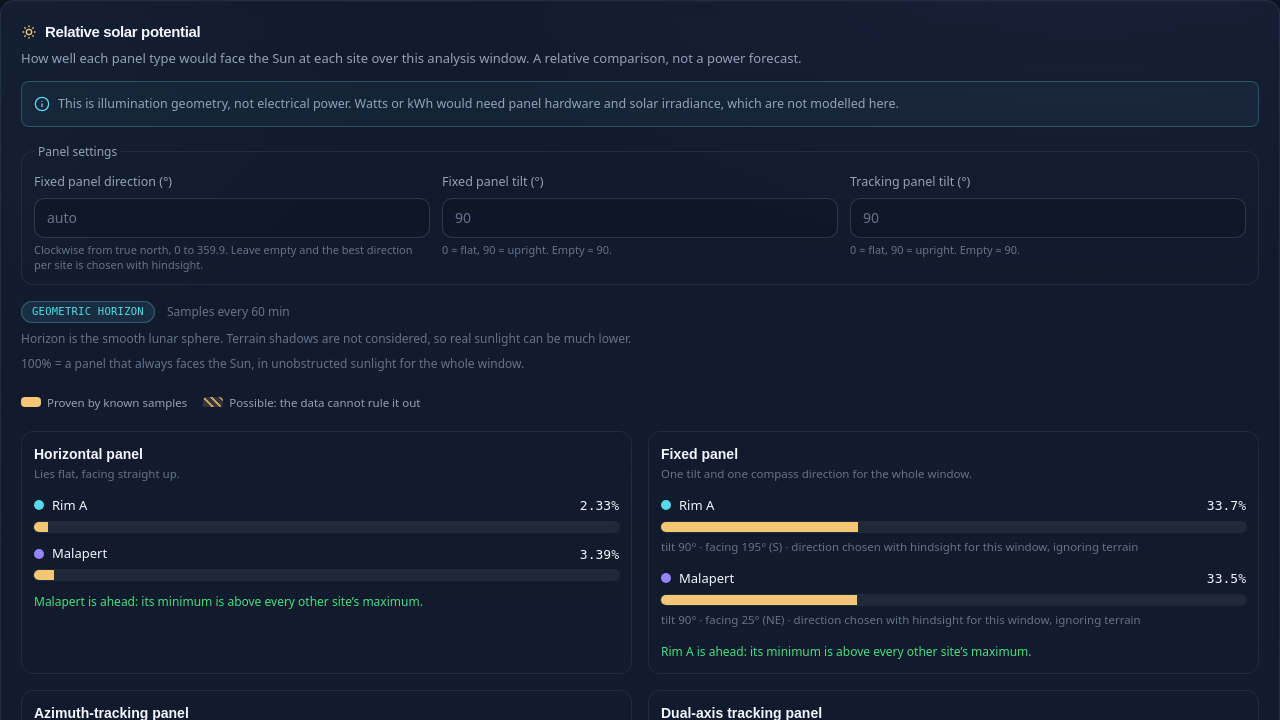
Test: solar potential · panel › debounces panel settings and never requests an invalid configuration
This screenshot has width=1280, height=720.
Expected: the element with test id "solar-not-power" shows "not electrical power", [58,95,899,112]
In the field labelled "Fixed panel direction (°)": (232, 218) [34,198,430,238], type "1"
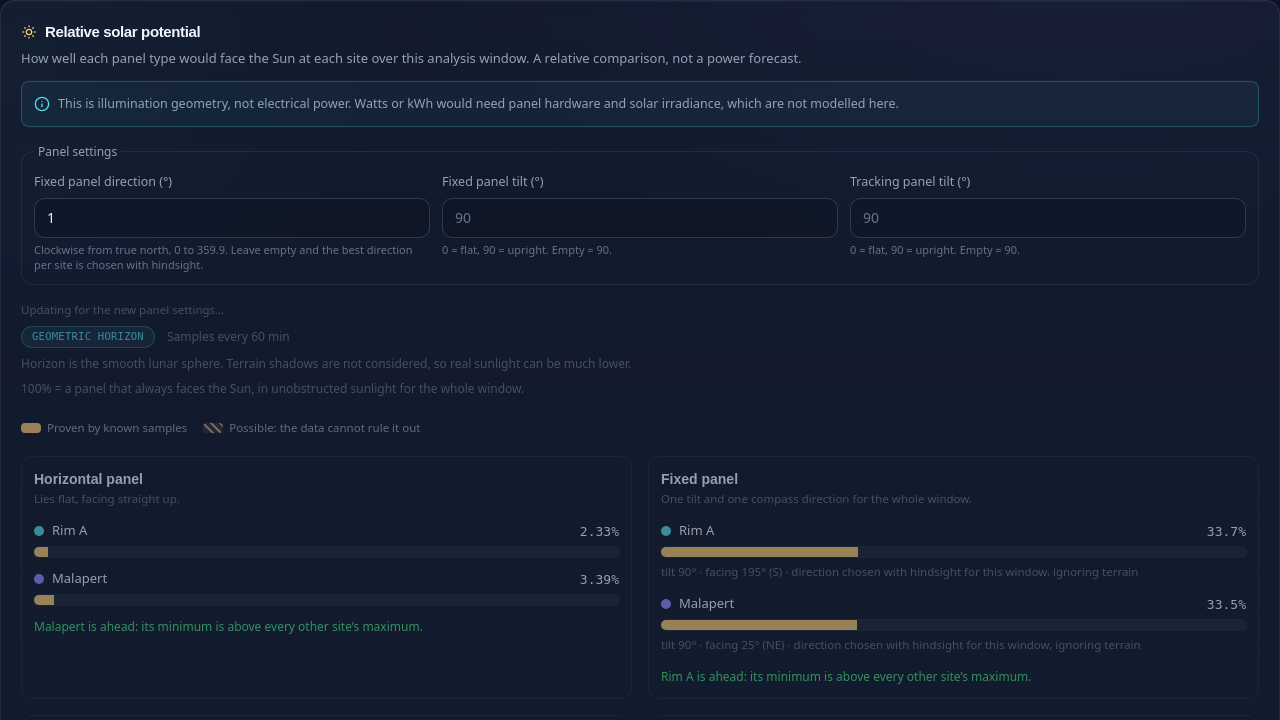
Replace the text in the field labelled "Fixed panel direction (°)" with "19": (232, 218) [34,198,430,238]
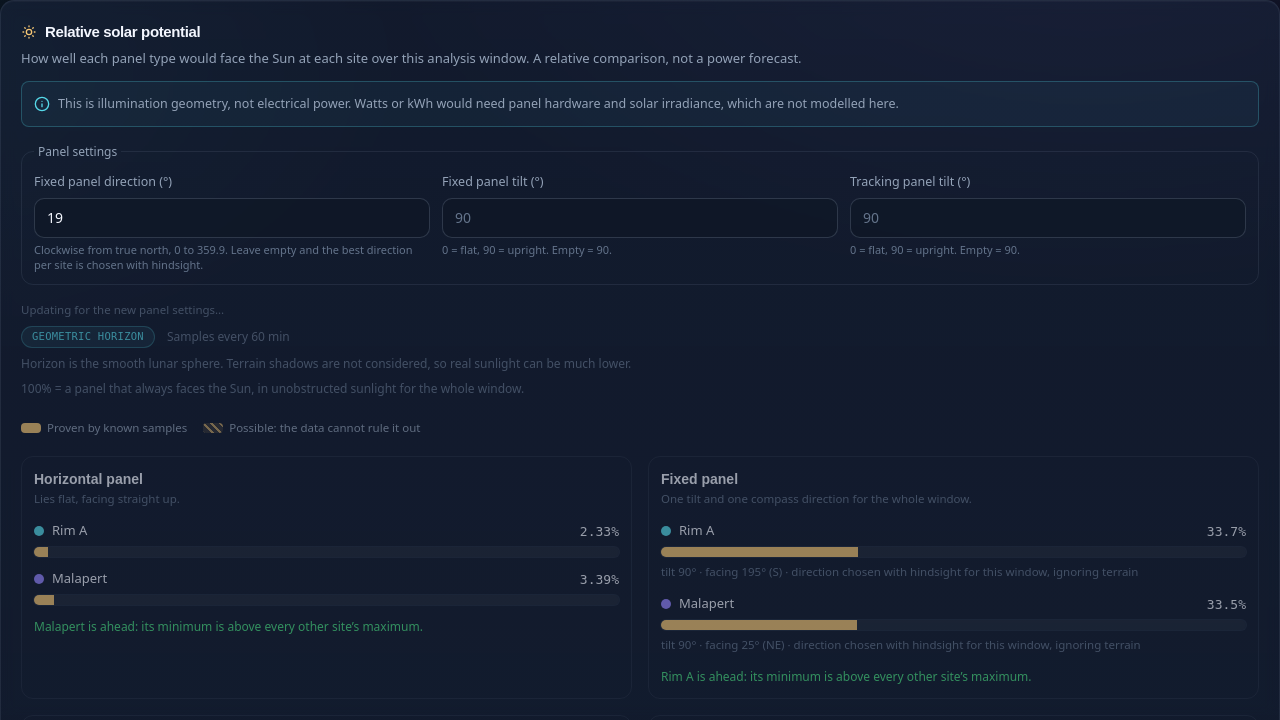
Replace the text in the field labelled "Fixed panel direction (°)" with "195": (232, 218) [34,198,430,238]
Wait 600 ms
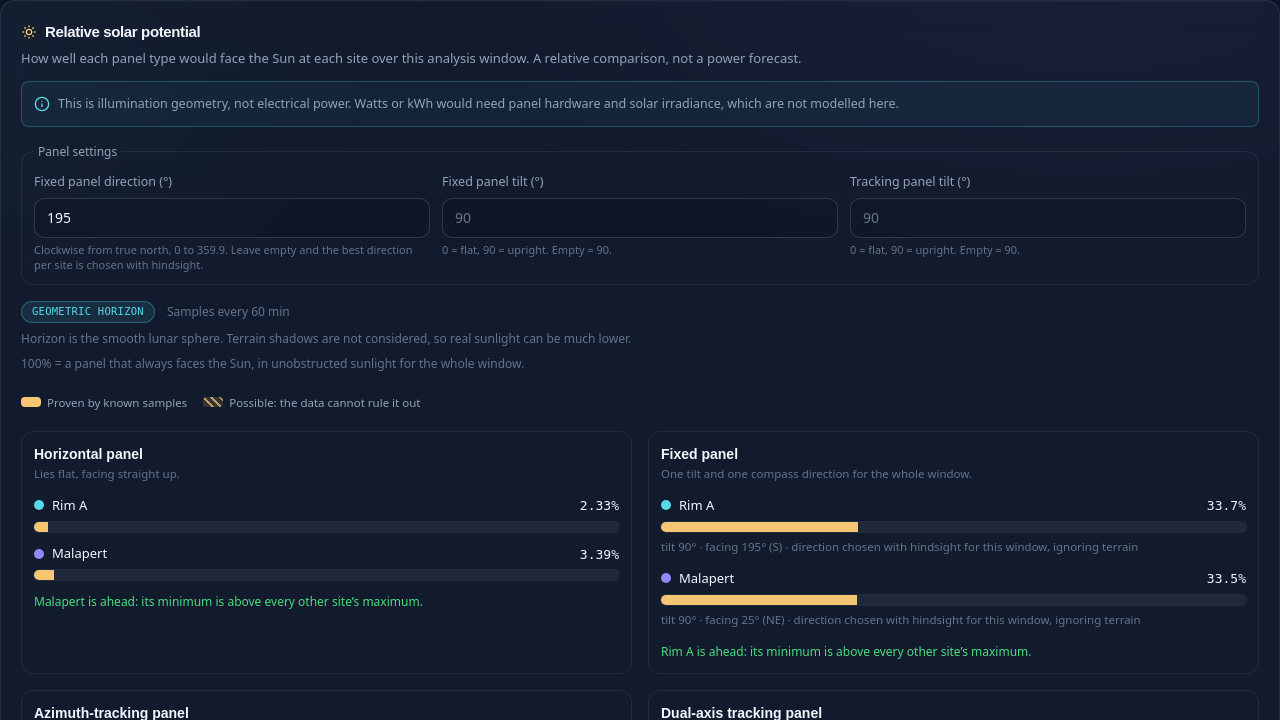
Replace the text in the field labelled "Fixed panel direction (°)" with "400": (232, 218) [34,198,430,238]
Wait 2000 ms
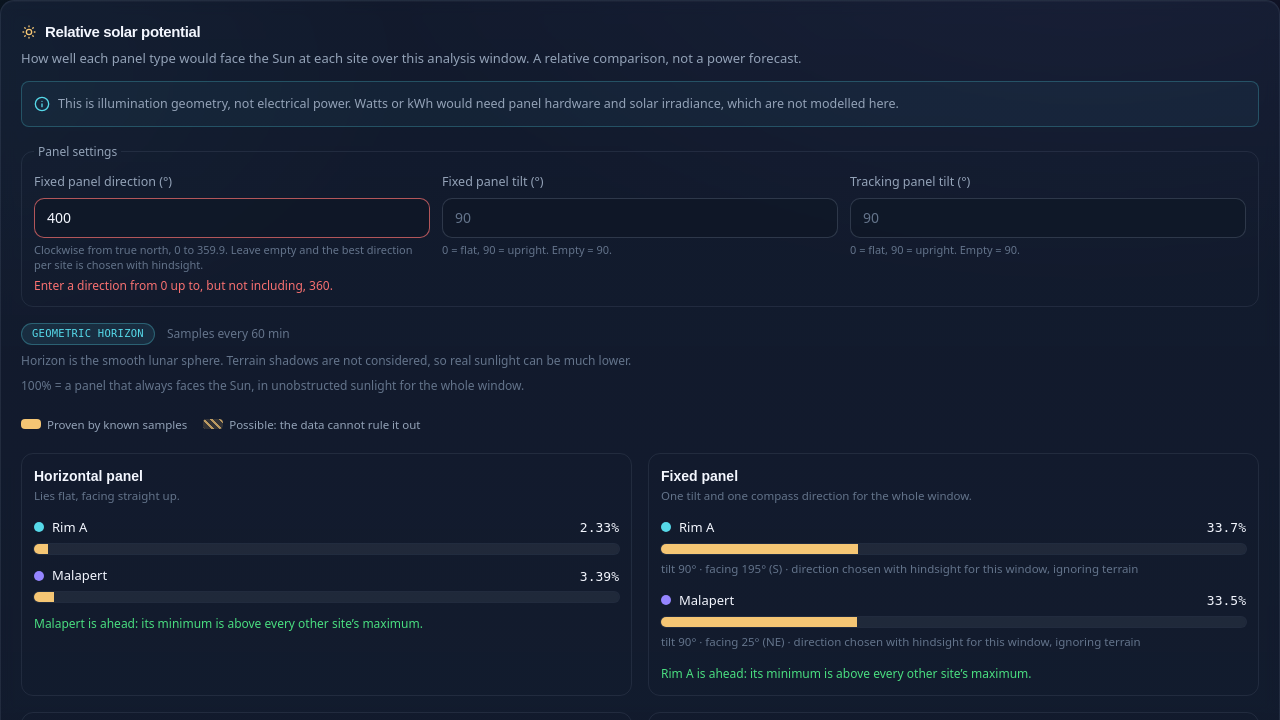
Expected: the message reads "Enter a direction from 0 up to, but not including, 360.", [34,277,333,294]
Clear the field labelled "Fixed panel direction (°)": (232, 218) [34,198,430,238]
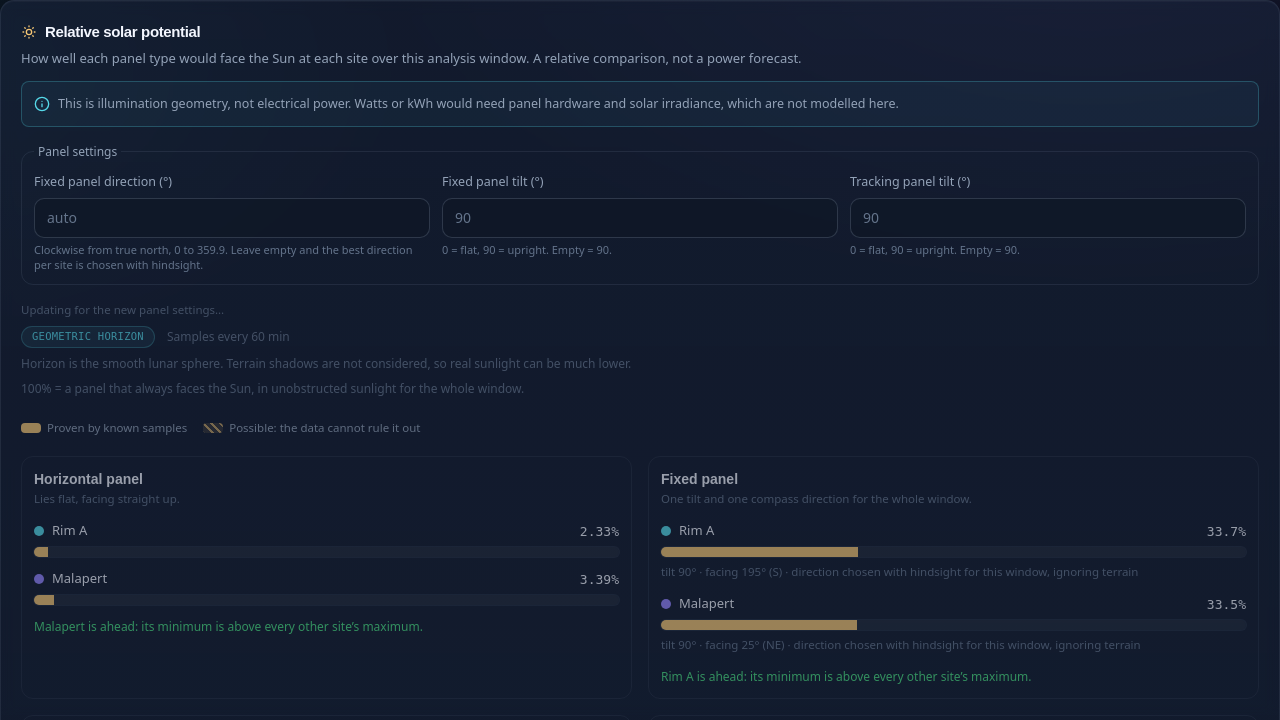
In the field labelled "Fixed panel tilt (°)": (640, 218) [442,198,838,238], type "45"
Wait 600 ms
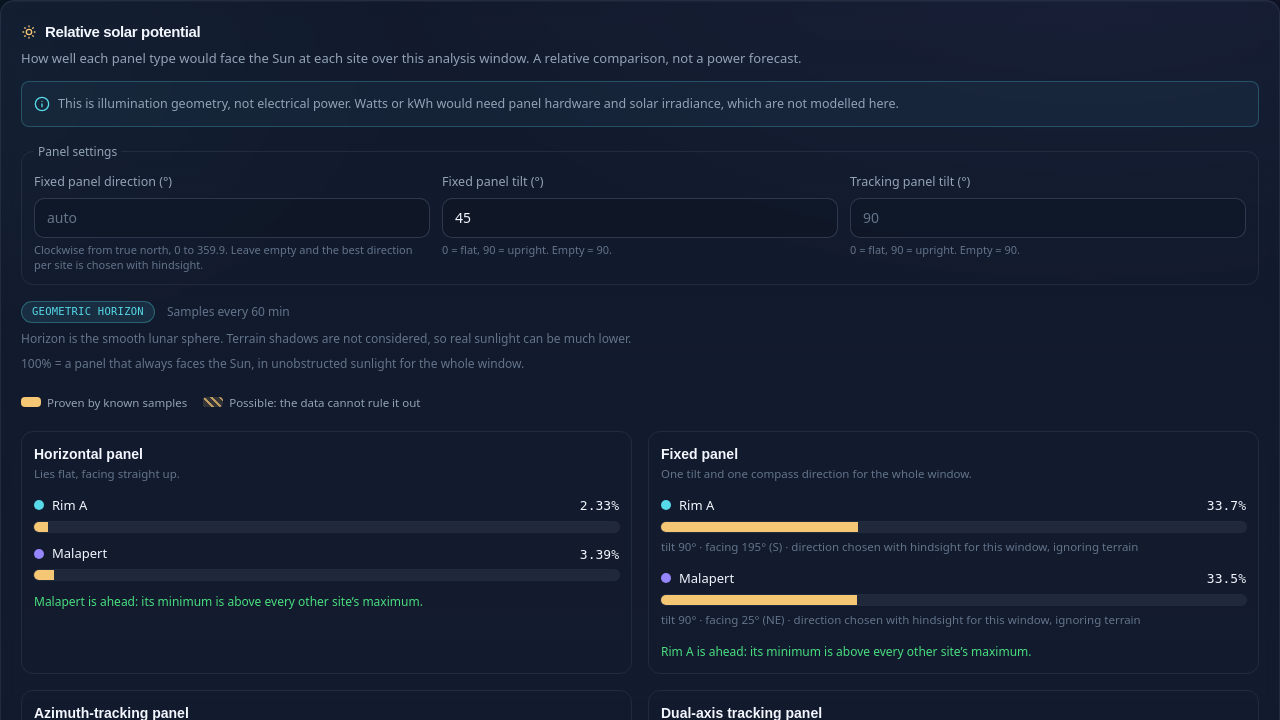
Expected: the message "Updating for the new panel settings…" is gone
